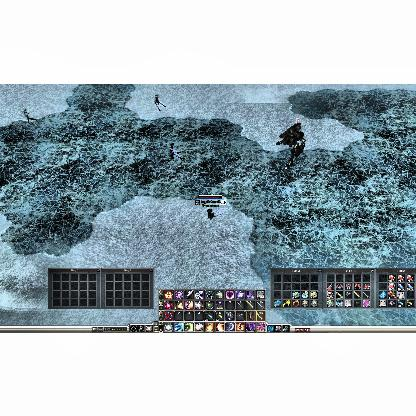caliana: (169, 142, 185, 160), (152, 93, 168, 110), (22, 108, 36, 122)
